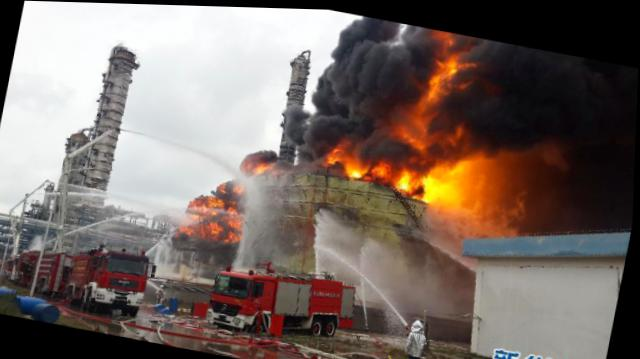fire: (423, 151, 492, 217), (391, 96, 437, 143), (427, 47, 457, 97), (189, 190, 225, 212), (426, 25, 458, 48), (343, 151, 366, 177), (394, 163, 417, 189), (206, 216, 225, 237), (373, 157, 393, 175), (226, 214, 246, 229), (226, 226, 242, 242), (329, 144, 344, 161), (254, 158, 268, 172), (178, 222, 194, 233), (226, 203, 240, 214)
